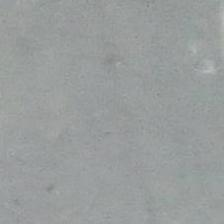Non_Crack: (16, 62, 201, 199)
